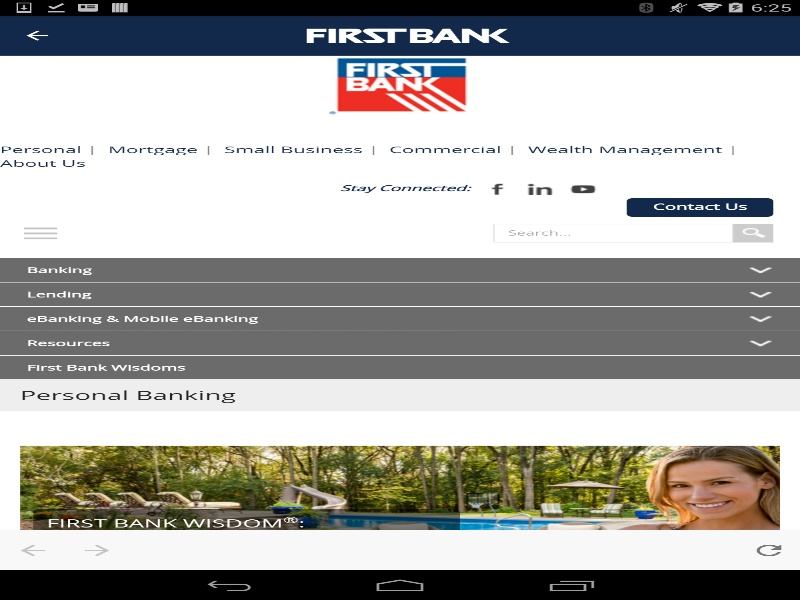Button: (0, 18, 74, 53), (653, 530, 766, 550)
Input: (493, 223, 734, 242)
